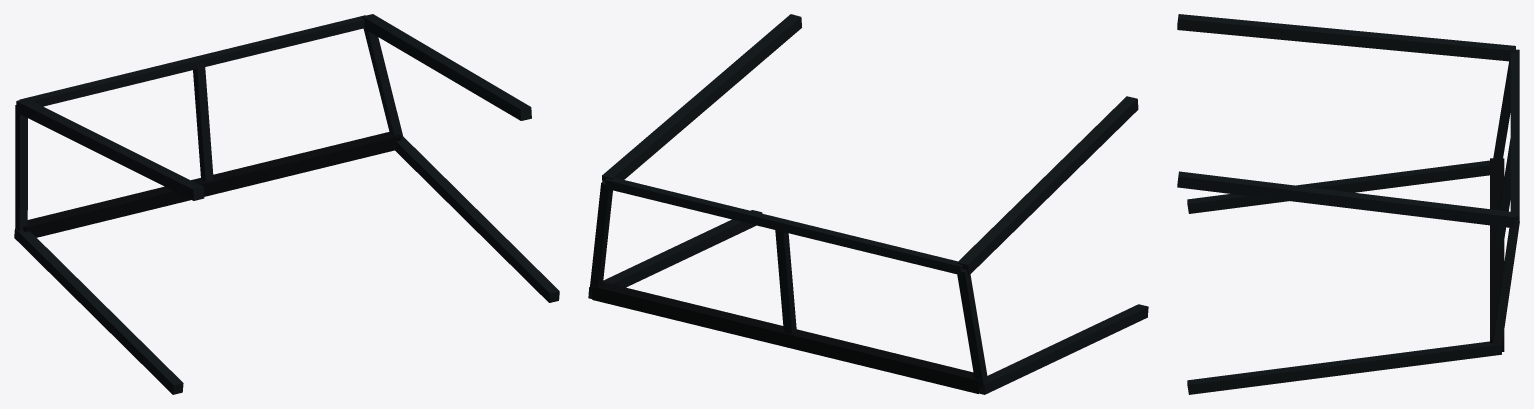
File: Cockpit_Rotorcraft__Frame.obj
3 views of the same model, side by side, from view 1: azimuth 30°, elevation 25°; view 2: azimuth 150°, elevation 25°; view 3: azimuth 270°, elevation 25° (orthographic). The views are drawn at different scales.
Visible parts, largest first — view 1: Windscreen_sill, Windscreen_brow, Cabin_lower_rail, Canopy_roof_rail, Cabin_lower_rail.001, Canopy_roof_rail.001, Offset_windscreen_center_post, Canopy_A_pillar, Canopy_A_pillar.001; view 2: Windscreen_sill, Windscreen_brow, Canopy_roof_rail.001, Canopy_roof_rail, Cabin_lower_rail, Cabin_lower_rail.001, Canopy_A_pillar, Offset_windscreen_center_post, Canopy_A_pillar.001; view 3: Canopy_roof_rail.001, Canopy_roof_rail, Cabin_lower_rail.001, Cabin_lower_rail, Windscreen_sill, Windscreen_brow, Canopy_A_pillar.001, Canopy_A_pillar, Offset_windscreen_center_post.
Part boxes in pixels (box(x1,y1,x2,y2)): Windscreen_sill: box(23, 132, 401, 237); Windscreen_brow: box(19, 15, 365, 106); Cabin_lower_rail: box(14, 228, 183, 394); Canopy_roof_rail: box(16, 98, 204, 200); Cabin_lower_rail.001: box(395, 137, 559, 302); Canopy_roof_rail.001: box(362, 14, 531, 120); Offset_windscreen_center_post: box(193, 63, 213, 181); Canopy_A_pillar: box(15, 105, 27, 231); Canopy_A_pillar.001: box(363, 29, 403, 138); Windscreen_sill: box(592, 282, 980, 393); Windscreen_brow: box(605, 178, 962, 274); Canopy_roof_rail.001: box(602, 14, 801, 181); Canopy_roof_rail: box(957, 96, 1138, 275); Cabin_lower_rail: box(979, 304, 1148, 394); Cabin_lower_rail.001: box(588, 210, 762, 298); Canopy_A_pillar: box(957, 269, 988, 387); Offset_windscreen_center_post: box(775, 230, 796, 334); Canopy_A_pillar.001: box(589, 180, 612, 291); Canopy_roof_rail.001: box(1177, 171, 1516, 228); Canopy_roof_rail: box(1177, 14, 1515, 61); Cabin_lower_rail.001: box(1187, 341, 1501, 394); Cabin_lower_rail: box(1187, 160, 1489, 213); Windscreen_sill: box(1490, 158, 1504, 351); Windscreen_brow: box(1510, 49, 1519, 220); Canopy_A_pillar.001: box(1493, 220, 1519, 347); Canopy_A_pillar: box(1493, 61, 1510, 160); Offset_windscreen_center_post: box(1493, 138, 1510, 249).
Size of the model in its own units: 2.18 by 1.11 by 1.7.
